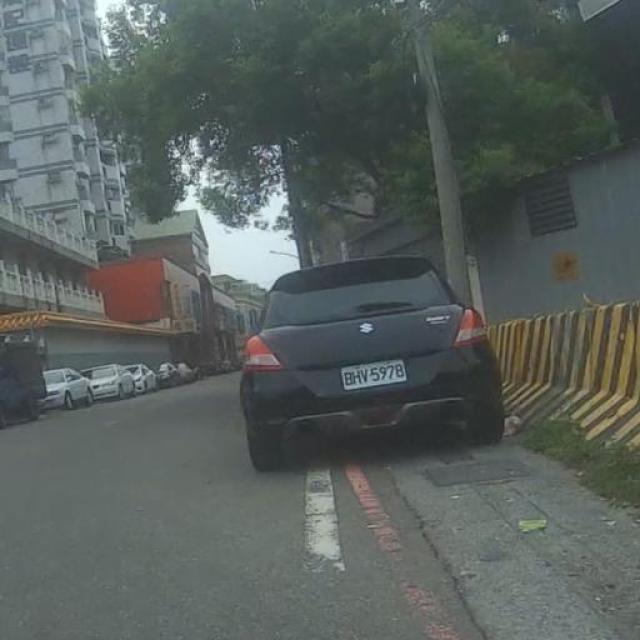Legalparking: (222, 254, 564, 499)
